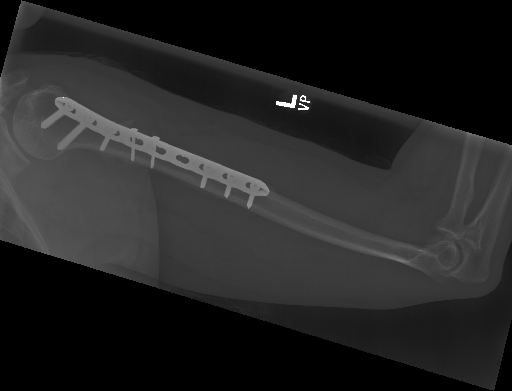implant: (38, 94, 271, 212)
